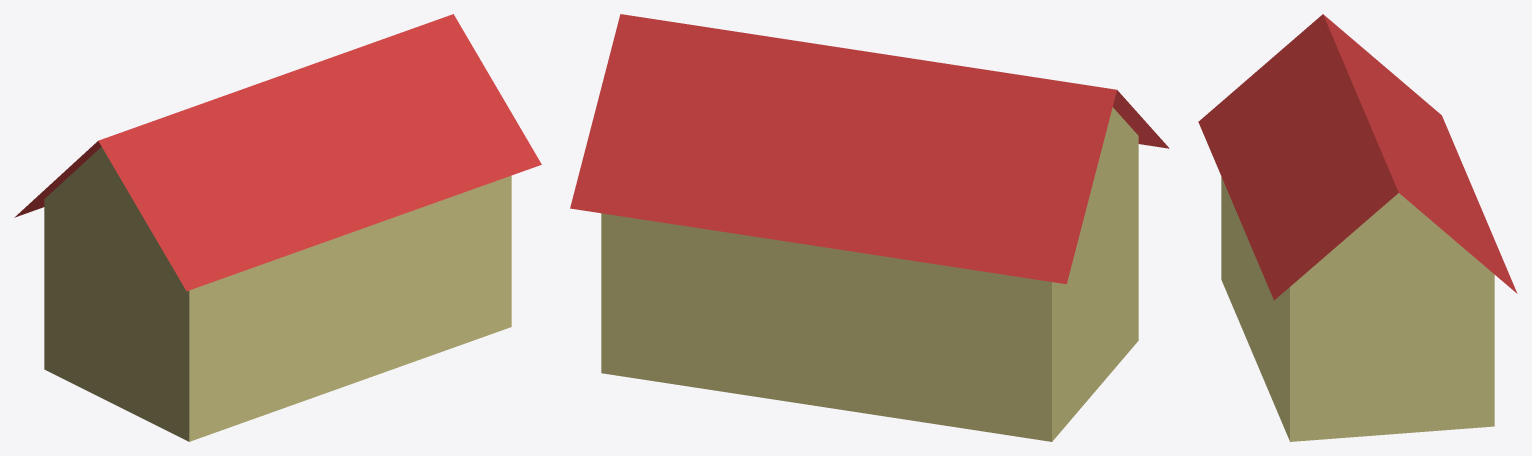
The picture shows the model from 3 angles, left to right: view 1: azimuth 30°, elevation 25°; view 2: azimuth 150°, elevation 25°; view 3: azimuth 270°, elevation 25°; orthographic projection. The views are drawn at different scales.
Size of the model in its own units: 23.53 by 16.1 by 13.88.
